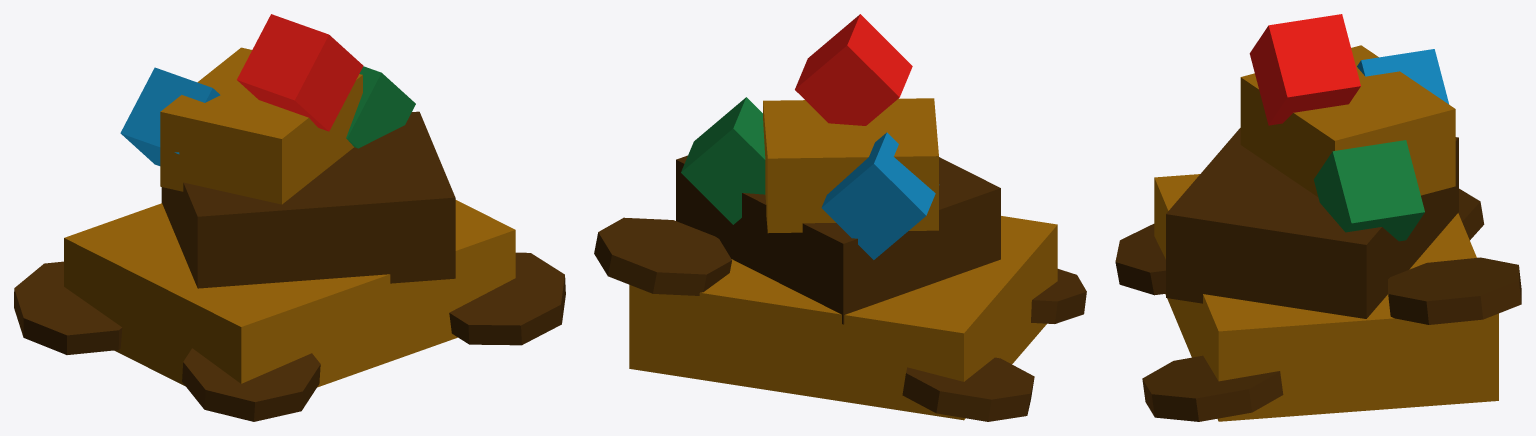
File: TesoroFortuna_low.fbx
3 renders of one model, left to right at view 1: azimuth 30°, elevation 25°; view 2: azimuth 150°, elevation 25°; view 3: azimuth 270°, elevation 25°, orthographic. The views are drawn at different scales.
Visible parts, largest first — view 1: TesoroFortuna_low; view 2: TesoroFortuna_low; view 3: TesoroFortuna_low.
Part boxes in pixels (<box>): TesoroFortuna_low: <box>14,14,565,421</box>; TesoroFortuna_low: <box>594,14,1086,421</box>; TesoroFortuna_low: <box>1115,14,1521,421</box>.
Size of the model in its own units: 74.03 by 48.78 by 57.06.
